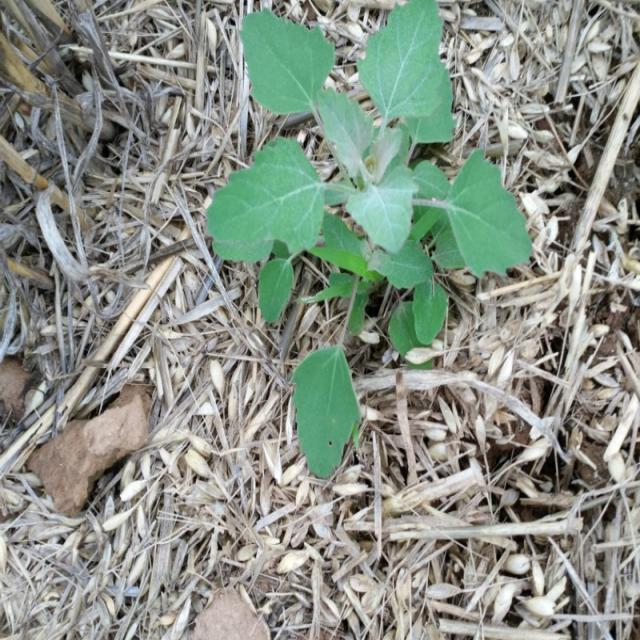goosefoots: (216, 0, 544, 468)
